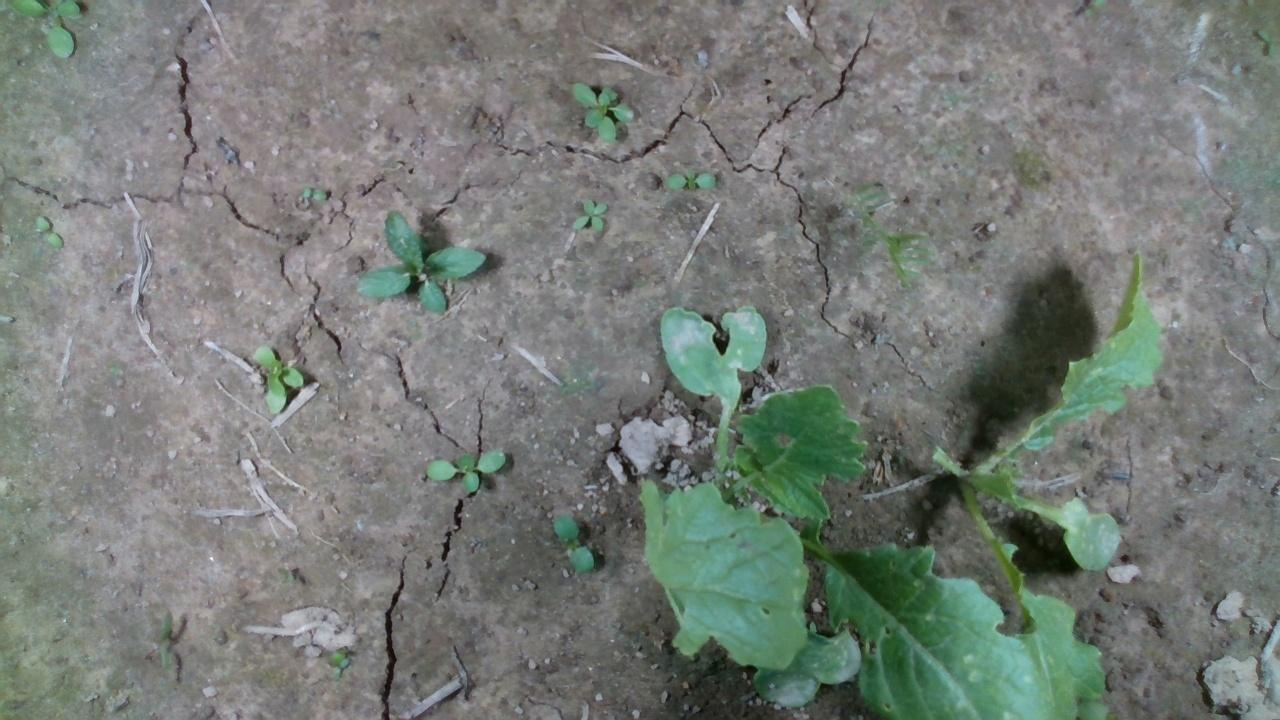weed: (353, 207, 490, 315), (569, 80, 636, 142), (421, 449, 507, 496), (248, 346, 307, 414), (549, 511, 595, 579), (663, 166, 714, 196), (571, 197, 607, 235), (31, 214, 63, 250), (297, 183, 327, 198)
